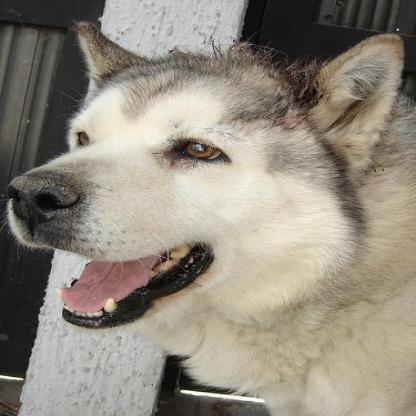malamute: (5, 21, 413, 413)
